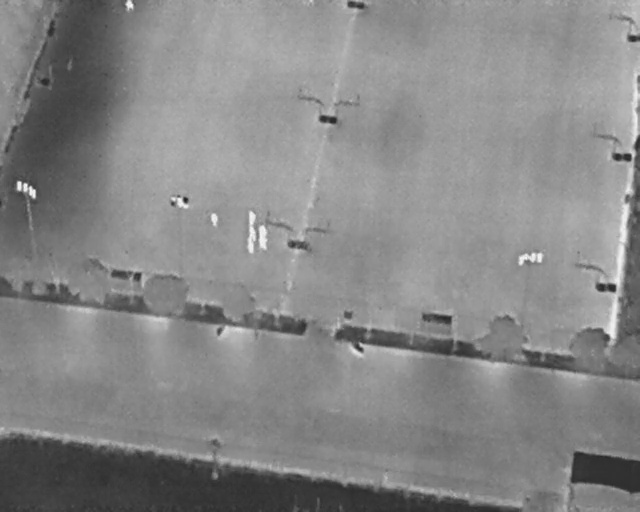Person: (246, 236, 255, 254), (258, 225, 267, 242), (248, 211, 256, 229), (259, 235, 268, 251), (249, 227, 257, 242), (210, 213, 218, 227), (127, 0, 133, 12)
